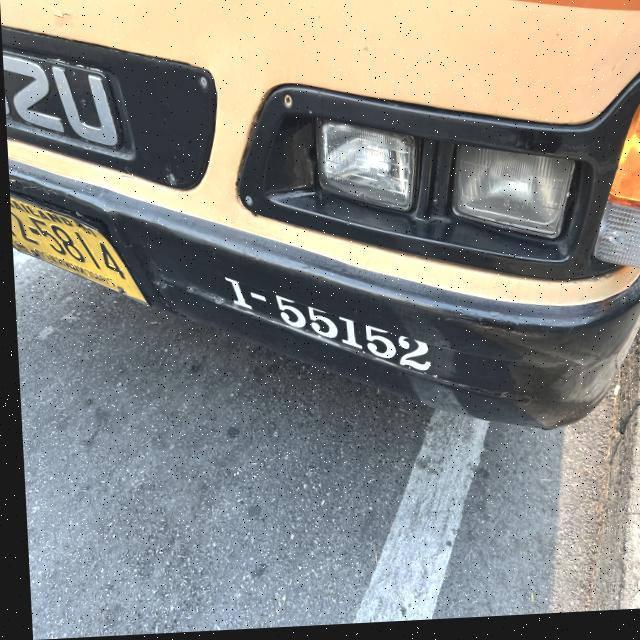BMTA-bus: (0, 0, 640, 460)
